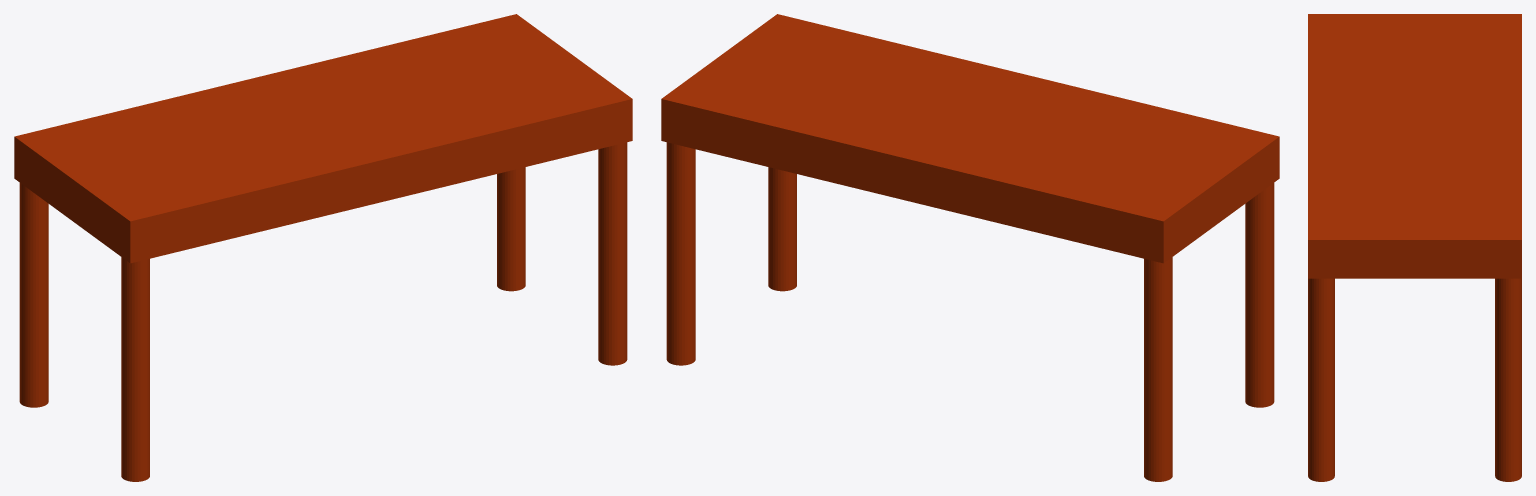
Rendered from Desk.glb.
3 renders of one model, left to right at view 1: azimuth 30°, elevation 25°; view 2: azimuth 150°, elevation 25°; view 3: azimuth 270°, elevation 25°, orthographic. The views are drawn at different scales.
Visible parts, largest first — view 1: Cube, Cylinder.001, Cylinder, Cylinder.002, Cylinder.003; view 2: Cube, Cylinder, Cylinder.003, Cylinder.001, Cylinder.002; view 3: Cube, Cylinder.003, Cylinder.002.
Part boxes in pixels (box(x1,y1,x2,y2)): Cube: box(14, 14, 632, 263); Cylinder.001: box(19, 132, 48, 407); Cylinder: box(121, 207, 149, 481); Cylinder.002: box(598, 142, 627, 365); Cylinder.003: box(497, 16, 525, 291); Cube: box(661, 14, 1279, 263); Cylinder: box(1245, 132, 1274, 407); Cylinder.003: box(666, 142, 695, 365); Cylinder.001: box(1144, 207, 1172, 481); Cylinder.002: box(768, 17, 796, 291); Cube: box(1308, 14, 1521, 278); Cylinder.003: box(1495, 228, 1521, 481); Cylinder.002: box(1308, 228, 1334, 481).
Size of the model in its own units: 2 by 1 by 0.8.
